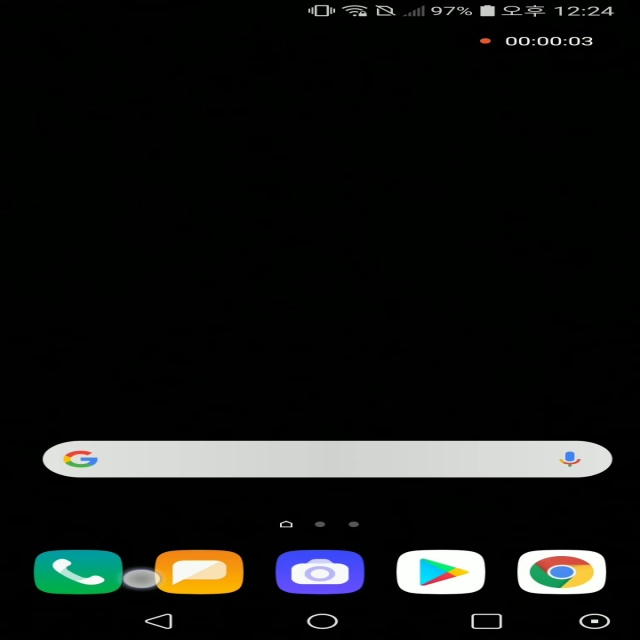Cursor: (119, 568, 163, 591)
